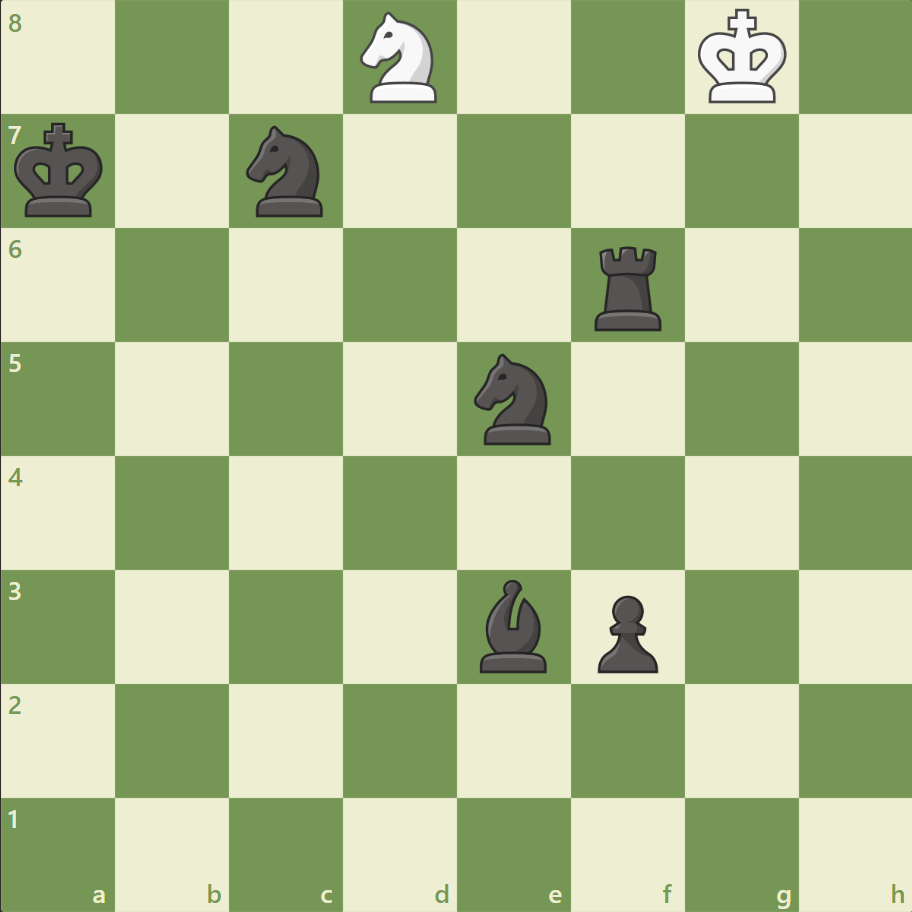K: (692, 4, 792, 112)
N: (351, 7, 449, 110)
b: (471, 574, 555, 676)
k: (11, 117, 111, 225)
n: (238, 121, 335, 223), (465, 348, 562, 450)
p: (588, 586, 662, 677)
r: (587, 239, 670, 336)
